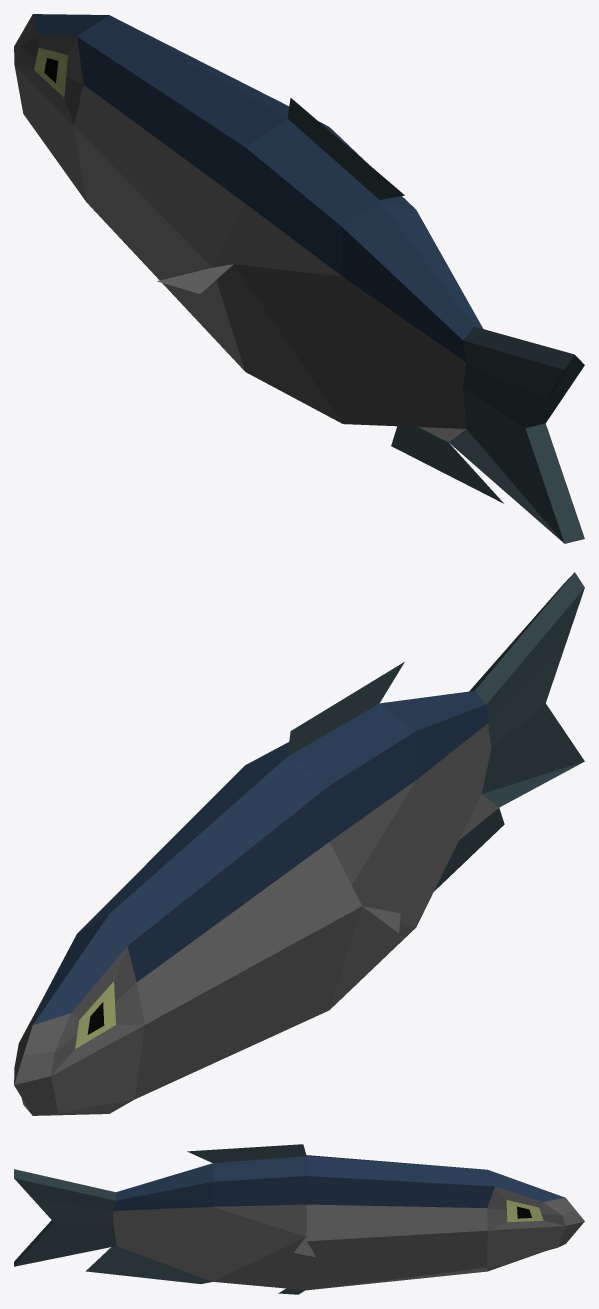
Rendered from SardineRaw.glb.
The picture shows the model from 3 angles, top to bottom: view 1: azimuth 30°, elevation 25°; view 2: azimuth 150°, elevation 25°; view 3: azimuth 270°, elevation 25°; orthographic projection. The views are drawn at different scales.
Parts seen in each view (by area): view 1: EXPORT_sardine; view 2: EXPORT_sardine; view 3: EXPORT_sardine.
Boxes of the visible parts, x1=… form: EXPORT_sardine: x1=14, y1=14, x2=584, y2=543; EXPORT_sardine: x1=14, y1=572, x2=584, y2=1115; EXPORT_sardine: x1=14, y1=1144, x2=584, y2=1294.
Bounding box in the file's own units: 0.0446 × 0.0522 × 0.1792.
